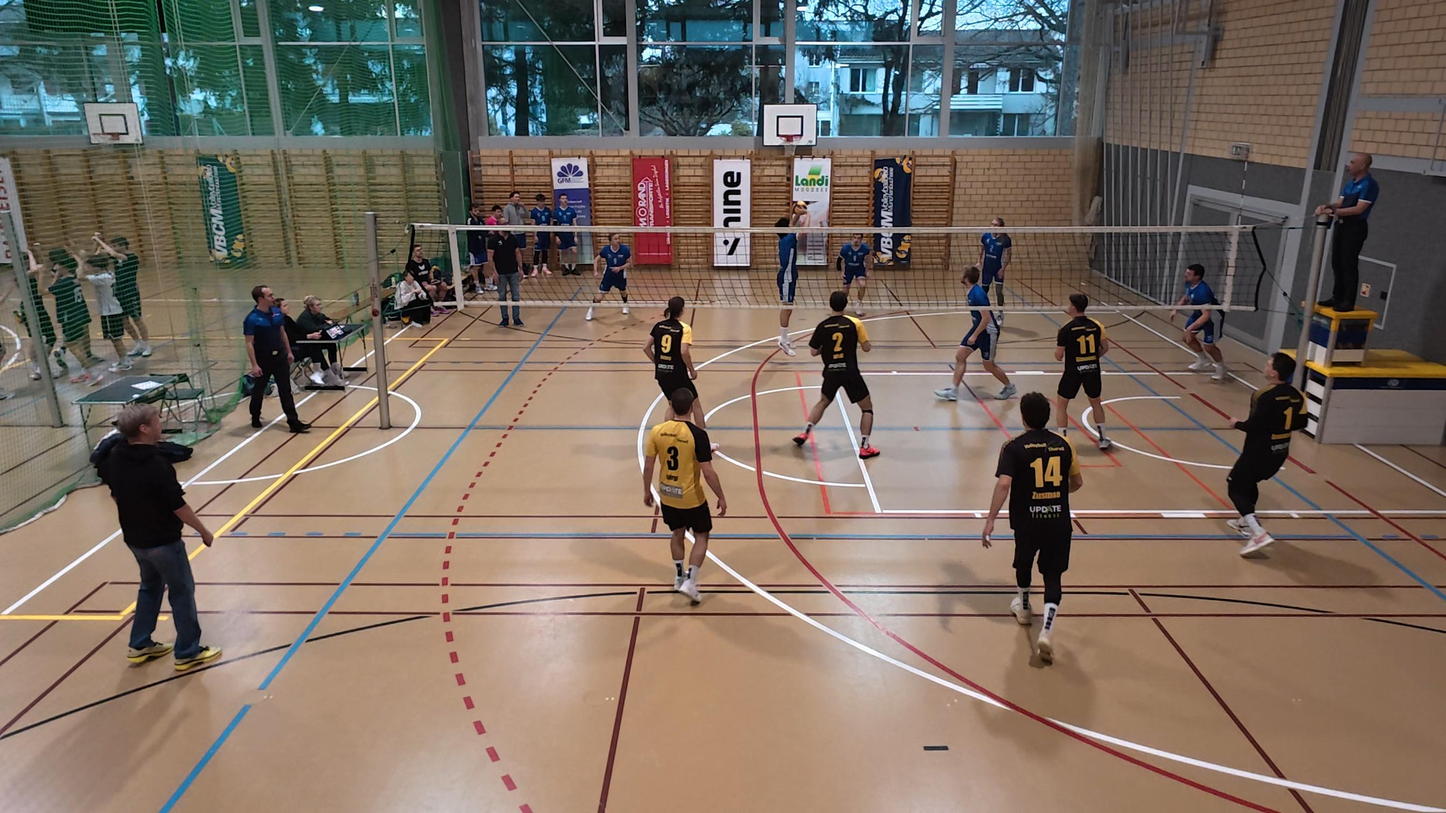Player: (981, 392, 1084, 667), (647, 391, 727, 603), (793, 291, 878, 458), (935, 263, 1015, 400), (1052, 291, 1111, 451), (648, 296, 708, 425), (1174, 264, 1227, 381), (586, 232, 635, 322), (977, 217, 1014, 308), (836, 234, 873, 319)
Set: (769, 201, 813, 356)
ball: (792, 198, 808, 213)
